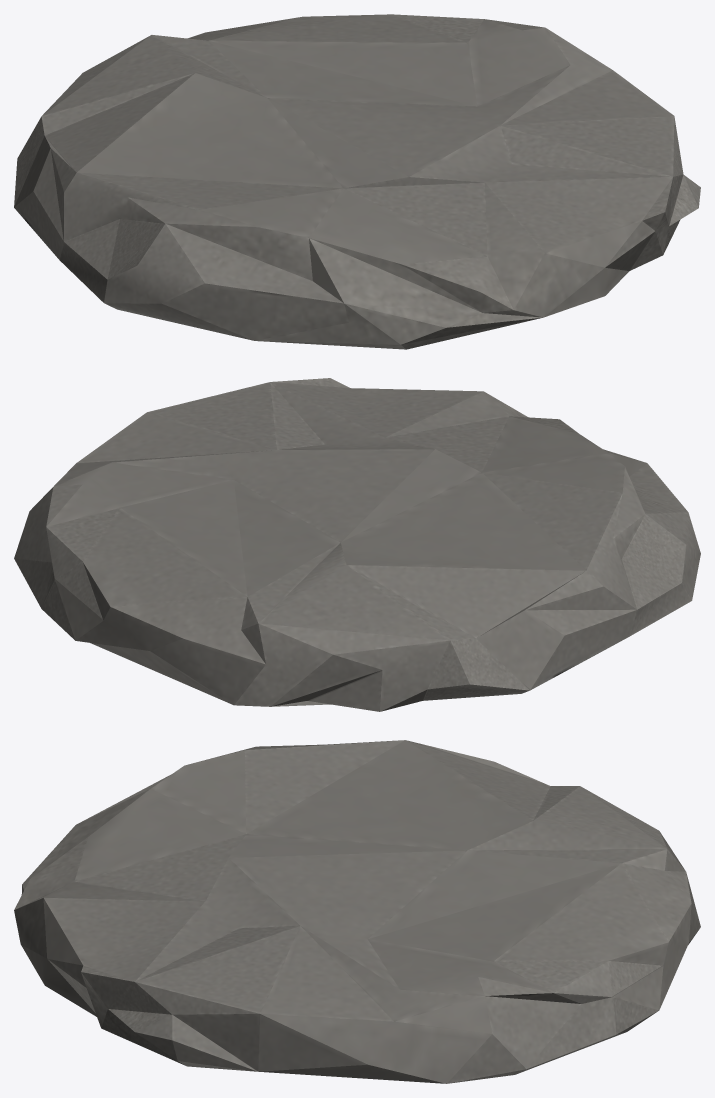
3 views of the same model, one above another, from view 1: azimuth 30°, elevation 25°; view 2: azimuth 150°, elevation 25°; view 3: azimuth 270°, elevation 25° (orthographic). The views are drawn at different scales.
Visible parts, largest first — view 1: output_unwrapped; view 2: output_unwrapped; view 3: output_unwrapped.
Boxes of the visible parts, <box> form: output_unwrapped: <box>14,14,700,349</box>; output_unwrapped: <box>14,378,700,711</box>; output_unwrapped: <box>14,740,700,1083</box>.
Size of the model in its own units: 1.99 by 0.3174 by 2.
Materials: 1 (1 with a texture image).
